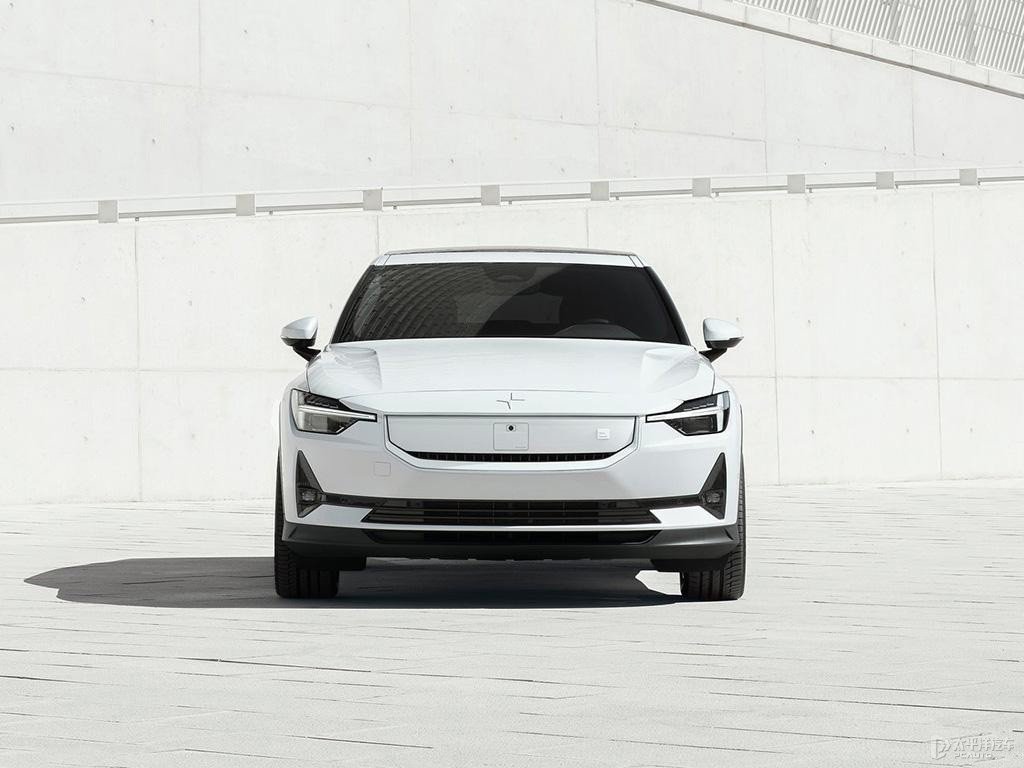Polestar: (496, 393, 525, 410)
